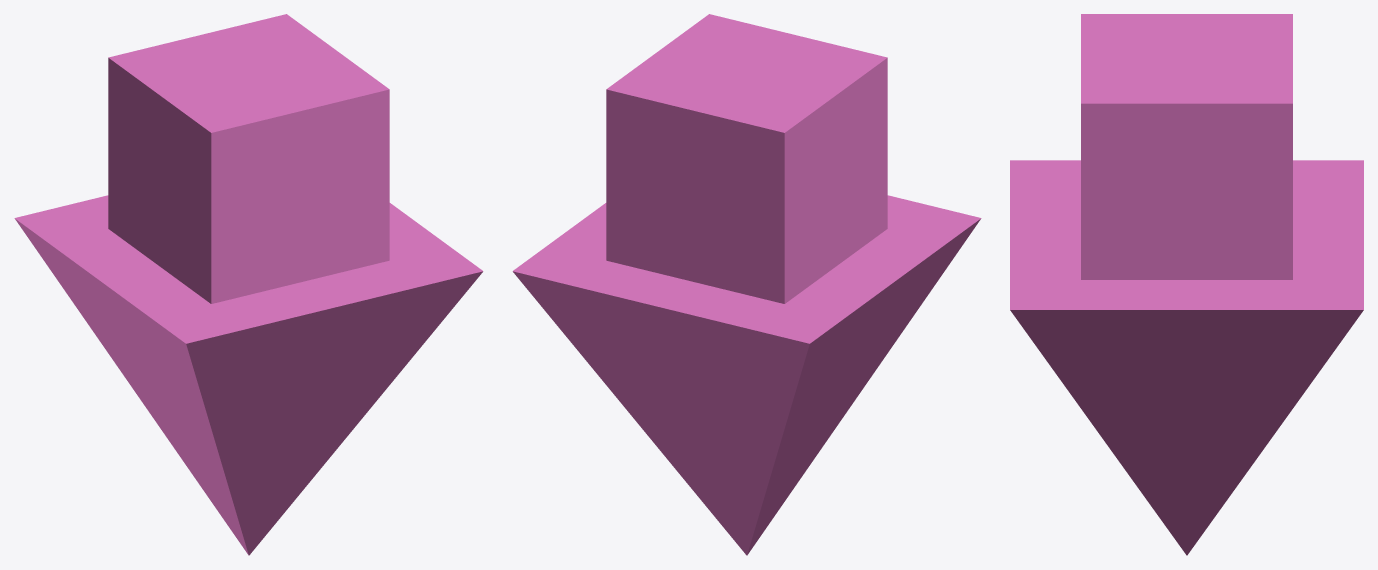
Rendered from enemyAlpha3D.fbx.
3 views of the same model, side by side, from view 1: azimuth 30°, elevation 25°; view 2: azimuth 150°, elevation 25°; view 3: azimuth 270°, elevation 25° (orthographic). The views are drawn at different scales.
Visible parts, largest first — view 1: Cube.001, Cube; view 2: Cube.001, Cube; view 3: Cube.001, Cube.
Part boxes in pixels (<box>): Cube.001: <box>14,195,483,555</box>; Cube: <box>108,14,389,303</box>; Cube.001: <box>512,195,981,555</box>; Cube: <box>606,14,887,303</box>; Cube.001: <box>1010,160,1363,555</box>; Cube: <box>1081,14,1292,279</box>.
Size of the model in its own units: 100 by 155 by 100.
